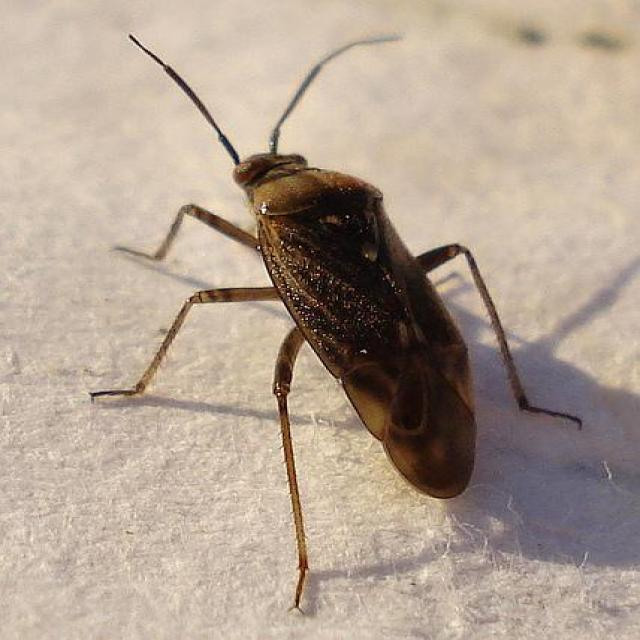Miridae-Adult-: (91, 26, 603, 603)
